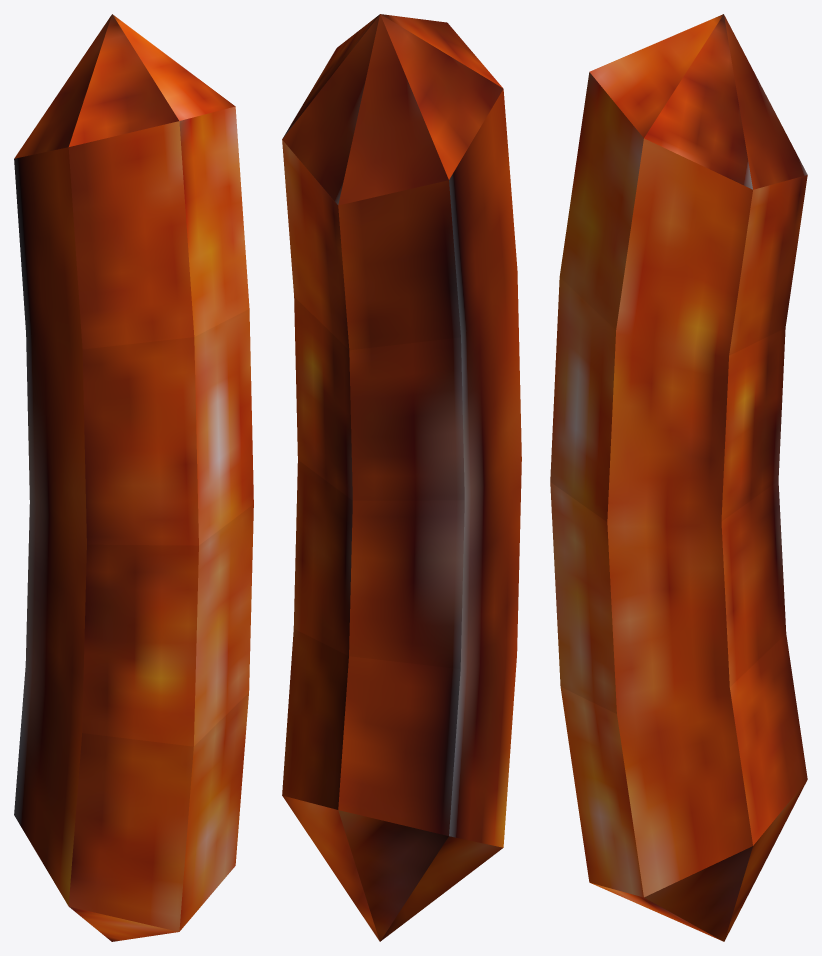
Rendered from kolbasa.glb.
3 renders of one model, left to right at view 1: azimuth 30°, elevation 25°; view 2: azimuth 150°, elevation 25°; view 3: azimuth 270°, elevation 25°, orthographic.
Parts seen in each view (by area): view 1: kolbasa; view 2: kolbasa; view 3: kolbasa.
Part boxes in pixels (bbox=[...]): kolbasa: bbox=[14, 14, 253, 941]; kolbasa: bbox=[282, 14, 521, 941]; kolbasa: bbox=[550, 14, 807, 941].
Size of the model in its own units: 0.0464 by 0.2467 by 0.062.
1 material, 1 textured.
